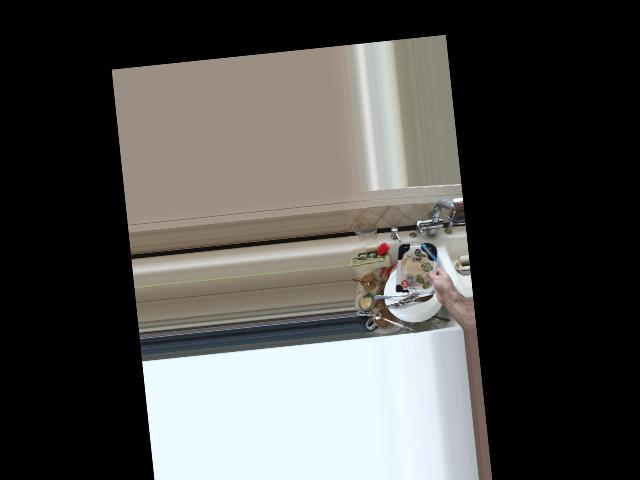cheese: (392, 235, 455, 305)
